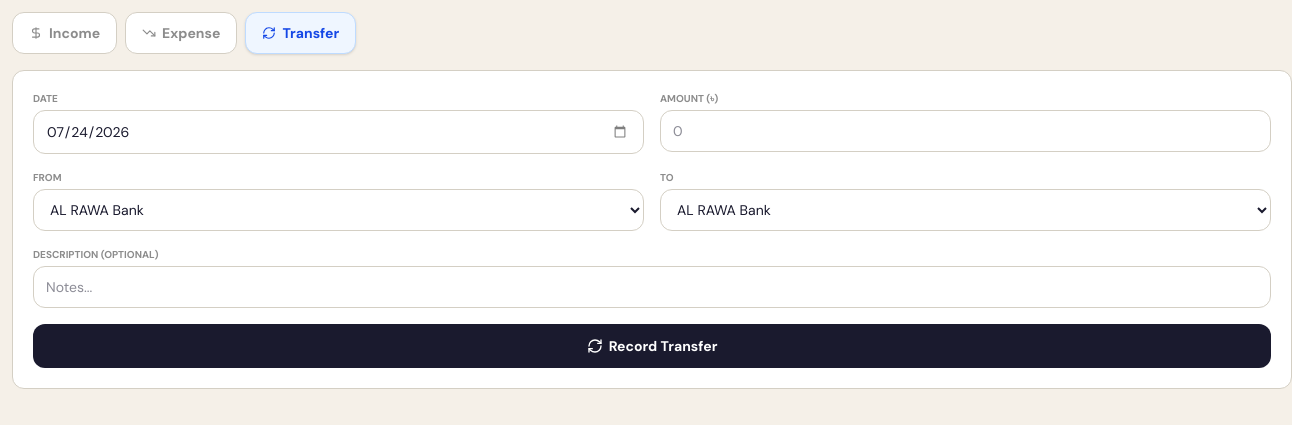
Test case: TransactionForm › validates same-account transfer
The width and height of the screenshot is (1292, 425).
Type "5000" into the number field with placeholder "0".
click(966, 131); type("5000")  # box left=660, top=110, right=1271, bottom=152
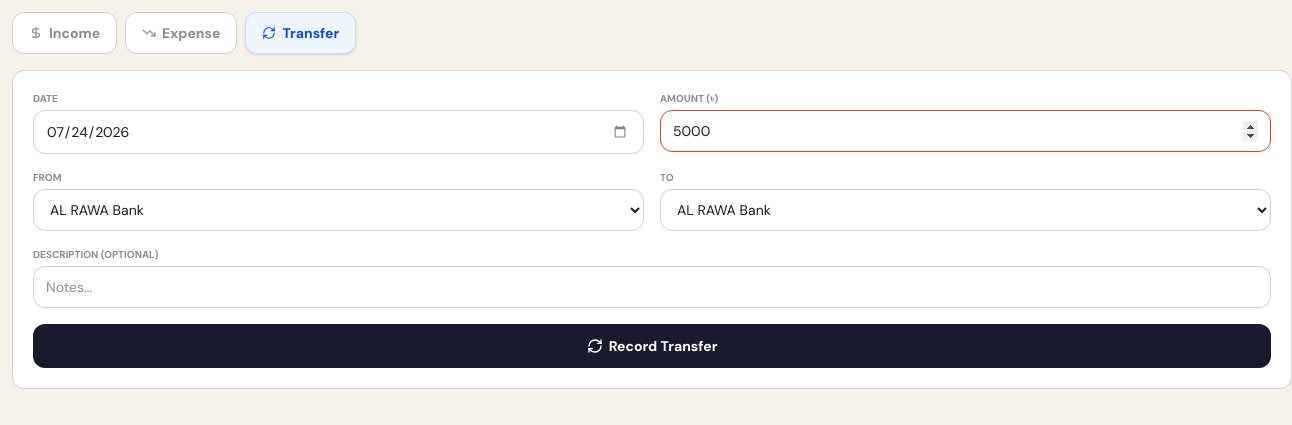
Select "Cash in Hand" in the dropdown below "From" at (338, 210), box left=33, top=189, right=644, bottom=231
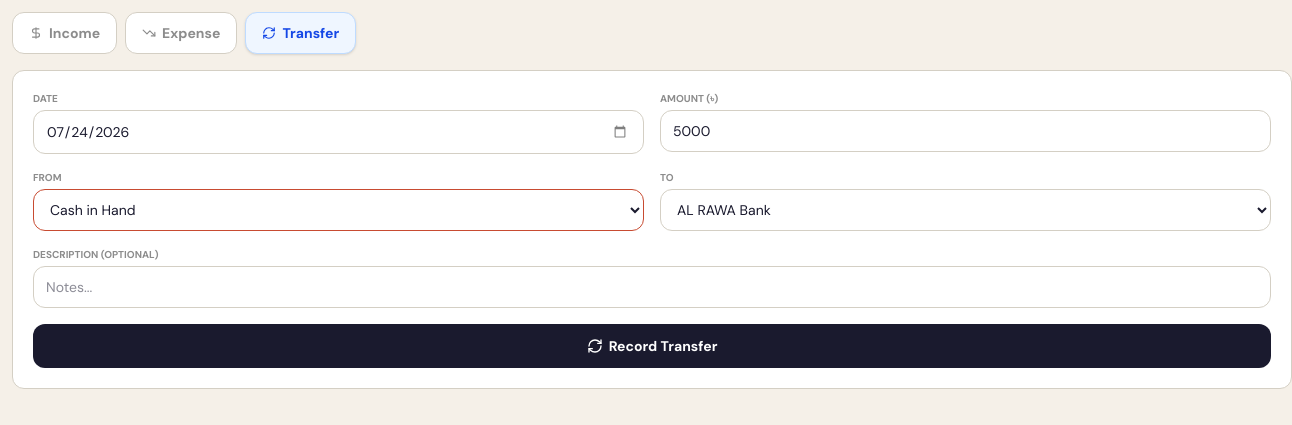
Select "Cash in Hand" in the dropdown below "To" at (966, 210), box left=660, top=189, right=1271, bottom=231
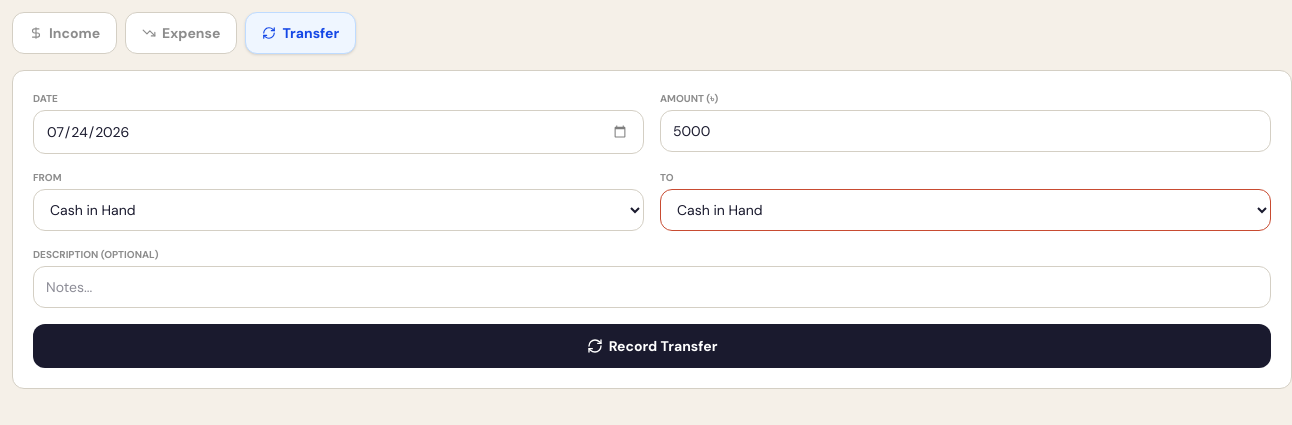
Submit the form
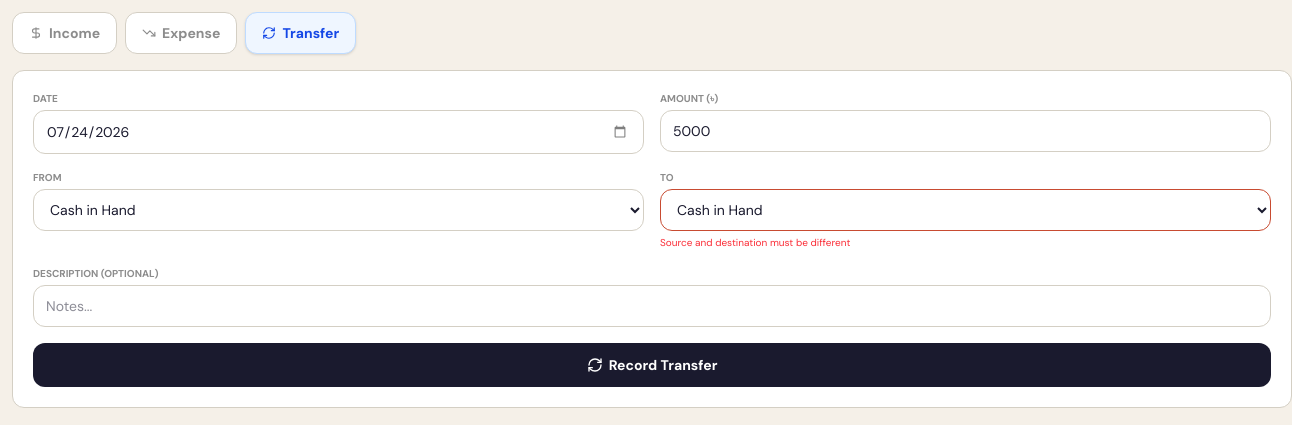
Expected: the text "Source and destination must be different" is shown, left=660, top=236, right=850, bottom=249
